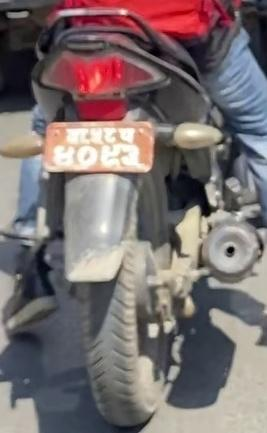license-plate: (48, 114, 157, 175)
